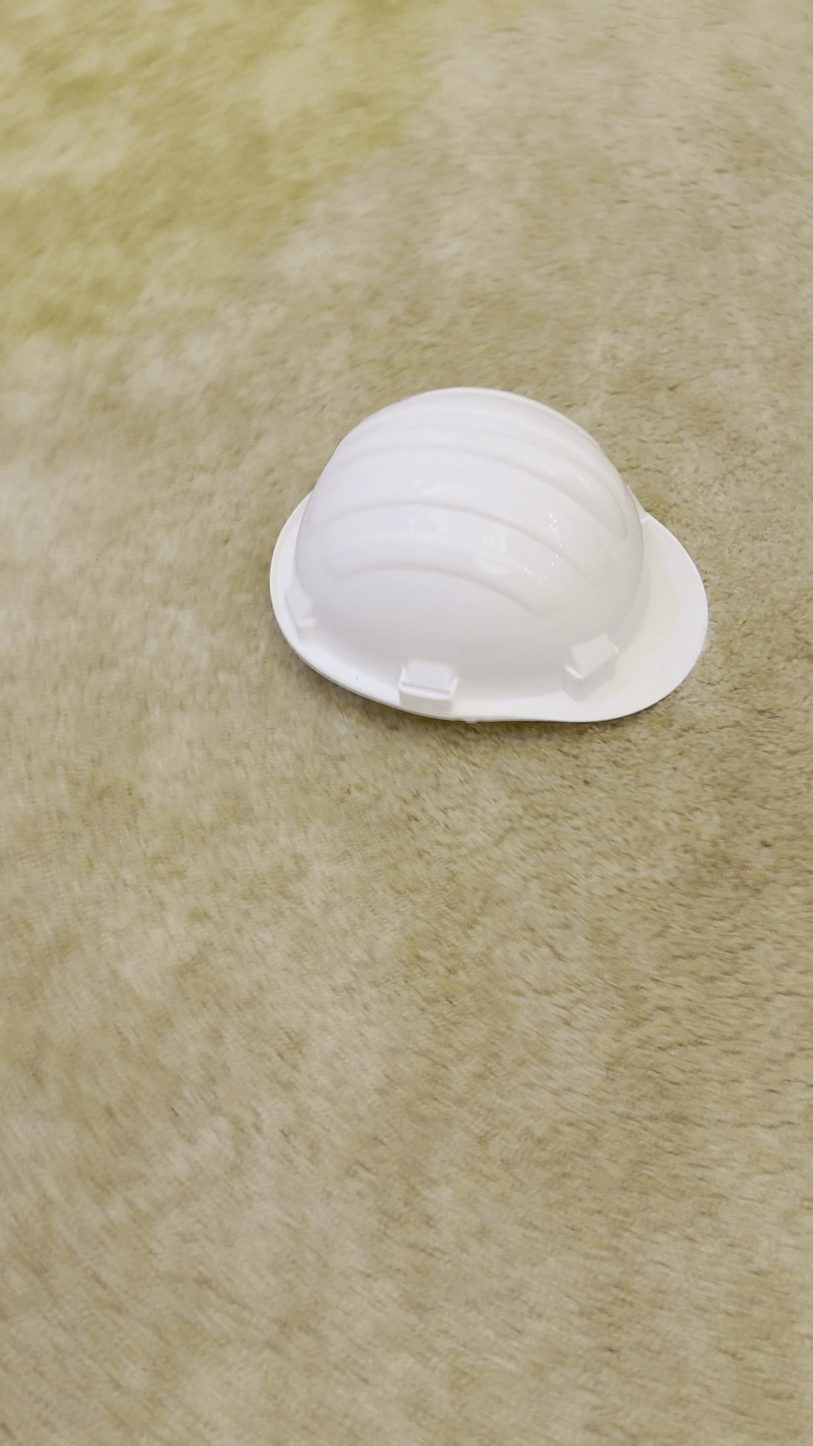emergency_exit: (279, 307, 507, 796)
